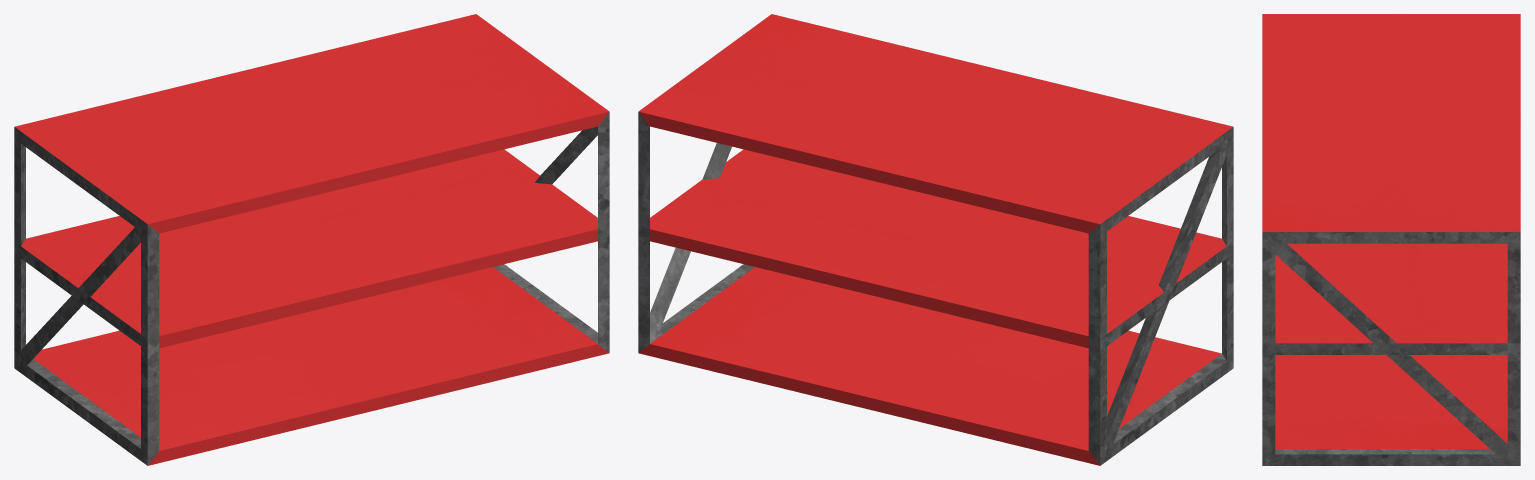
Rendered from Small Box Shelving.fbx.
3 views of the same model, side by side, from view 1: azimuth 30°, elevation 25°; view 2: azimuth 150°, elevation 25°; view 3: azimuth 270°, elevation 25° (orthographic). The views are drawn at different scales.
Visible parts, largest first — view 1: Box Shelf Small; view 2: Box Shelf Small; view 3: Box Shelf Small.
Boxes of the visible parts, x1,y1,x2,y2 form: Box Shelf Small: (14, 14, 609, 465); Box Shelf Small: (638, 14, 1233, 465); Box Shelf Small: (1262, 14, 1520, 465).
Size of the model in its own units: 400 by 200 by 200.
